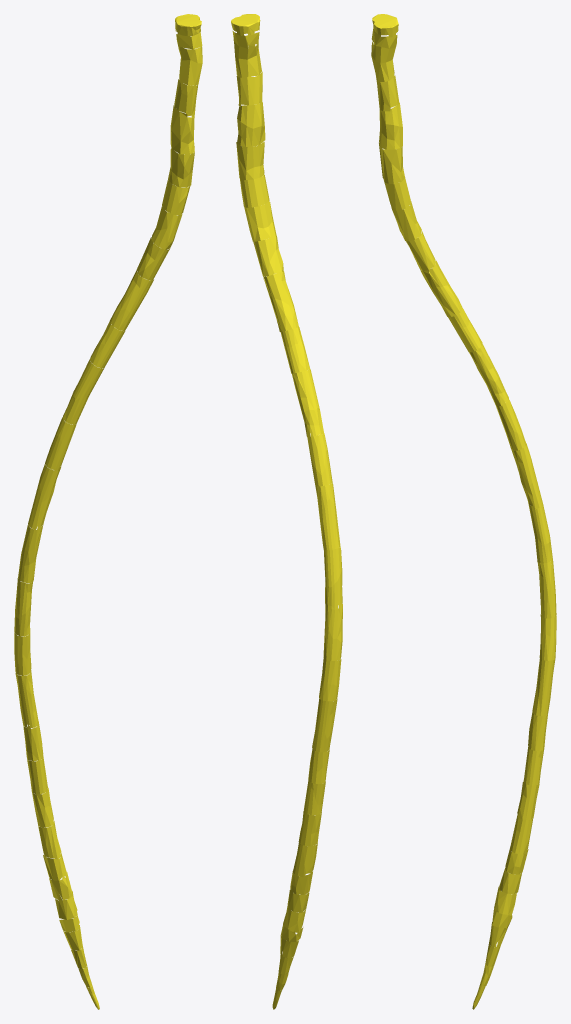
The model's file is VH_M_Spinal_Cord_0.1.glb.
The picture shows the model from 3 angles, left to right: view 1: azimuth 90°, elevation 25°; view 2: azimuth 210°, elevation 25°; view 3: azimuth 270°, elevation 25°; orthographic projection. The views are drawn at different scales.
Visible parts, largest first — view 1: VH_M_second_thoracic_spinal_cord_segment, VH_M_fourth_thoracic_spinal_cord_segment, VH_M_sixth_thoracic_spinal_cord_segment, VH_M_C5_segment_of_cervical_spinal_cord, VH_M_seventh_thoracic_spinal_cord_segment, VH_M_eighth_thoracic_spinal_cord_segment, VH_M_tenth_thoracic_spinal_cord_segment, VH_M_fifth_thoracic_spinal_cord_segment, VH_M_C3_segment_of_cervical_spinal_cord, VH_M_C6_segment_of_cervical_spinal_cord, VH_M_C8_segment_of_cervical_spinal_cord, VH_M_third_thoracic_spinal_cord_segment (+9 smaller); view 2: VH_M_fourth_thoracic_spinal_cord_segment, VH_M_second_thoracic_spinal_cord_segment, VH_M_sixth_thoracic_spinal_cord_segment, VH_M_C5_segment_of_cervical_spinal_cord, VH_M_seventh_thoracic_spinal_cord_segment, VH_M_eighth_thoracic_spinal_cord_segment, VH_M_fifth_thoracic_spinal_cord_segment, VH_M_tenth_thoracic_spinal_cord_segment, VH_M_C8_segment_of_cervical_spinal_cord, VH_M_C6_segment_of_cervical_spinal_cord, VH_M_third_thoracic_spinal_cord_segment, VH_M_first_thoracic_spinal_cord_segment (+14 smaller); view 3: VH_M_second_thoracic_spinal_cord_segment, VH_M_fourth_thoracic_spinal_cord_segment, VH_M_sixth_thoracic_spinal_cord_segment, VH_M_C5_segment_of_cervical_spinal_cord, VH_M_tenth_thoracic_spinal_cord_segment, VH_M_seventh_thoracic_spinal_cord_segment, VH_M_eighth_thoracic_spinal_cord_segment, VH_M_fifth_thoracic_spinal_cord_segment, VH_M_C6_segment_of_cervical_spinal_cord, VH_M_C3_segment_of_cervical_spinal_cord, VH_M_third_thoracic_spinal_cord_segment, VH_M_ninth_thoracic_spinal_cord_segment (+10 smaller).
Part boxes in pixels (<box>): VH_M_second_thoracic_spinal_cord_segment: <box>110,270,153,330</box>; VH_M_fourth_thoracic_spinal_cord_segment: <box>62,359,104,424</box>; VH_M_sixth_thoracic_spinal_cord_segment: <box>28,464,61,529</box>; VH_M_C5_segment_of_cervical_spinal_cord: <box>170,105,194,154</box>; VH_M_seventh_thoracic_spinal_cord_segment: <box>18,525,43,582</box>; VH_M_eighth_thoracic_spinal_cord_segment: <box>14,578,32,636</box>; VH_M_tenth_thoracic_spinal_cord_segment: <box>15,670,38,727</box>; VH_M_fifth_thoracic_spinal_cord_segment: <box>45,417,76,470</box>; VH_M_C3_segment_of_cervical_spinal_cord: <box>178,46,202,85</box>; VH_M_C6_segment_of_cervical_spinal_cord: <box>168,146,194,187</box>; VH_M_C8_segment_of_cervical_spinal_cord: <box>151,206,182,249</box>; VH_M_third_thoracic_spinal_cord_segment: <box>89,321,125,368</box>; VH_M_fourth_thoracic_spinal_cord_segment: <box>292,369,323,436</box>; VH_M_second_thoracic_spinal_cord_segment: <box>264,271,298,331</box>; VH_M_sixth_thoracic_spinal_cord_segment: <box>315,483,340,549</box>; VH_M_C5_segment_of_cervical_spinal_cord: <box>237,102,265,147</box>; VH_M_seventh_thoracic_spinal_cord_segment: <box>324,547,342,609</box>; VH_M_eighth_thoracic_spinal_cord_segment: <box>323,604,342,660</box>; VH_M_fifth_thoracic_spinal_cord_segment: <box>307,432,332,486</box>; VH_M_tenth_thoracic_spinal_cord_segment: <box>312,699,337,752</box>; VH_M_C8_segment_of_cervical_spinal_cord: <box>244,201,276,241</box>; VH_M_C6_segment_of_cervical_spinal_cord: <box>236,141,264,179</box>; VH_M_third_thoracic_spinal_cord_segment: <box>280,327,309,373</box>; VH_M_first_thoracic_spinal_cord_segment: <box>253,236,283,279</box>; VH_M_second_thoracic_spinal_cord_segment: <box>420,260,462,316</box>; VH_M_fourth_thoracic_spinal_cord_segment: <box>469,343,508,406</box>; VH_M_sixth_thoracic_spinal_cord_segment: <box>510,443,542,509</box>; VH_M_C5_segment_of_cervical_spinal_cord: <box>379,103,402,149</box>; VH_M_tenth_thoracic_spinal_cord_segment: <box>532,658,555,716</box>; VH_M_seventh_thoracic_spinal_cord_segment: <box>528,501,553,564</box>; VH_M_eighth_thoracic_spinal_cord_segment: <box>537,561,556,618</box>; VH_M_fifth_thoracic_spinal_cord_segment: <box>496,399,526,450</box>; VH_M_C6_segment_of_cervical_spinal_cord: <box>379,143,404,184</box>; VH_M_C3_segment_of_cervical_spinal_cord: <box>371,41,395,81</box>; VH_M_third_thoracic_spinal_cord_segment: <box>448,308,482,352</box>; VH_M_ninth_thoracic_spinal_cord_segment: <box>539,614,556,660</box>.
Size of the model in its own units: 0.0211 by 0.4654 by 0.0796.
